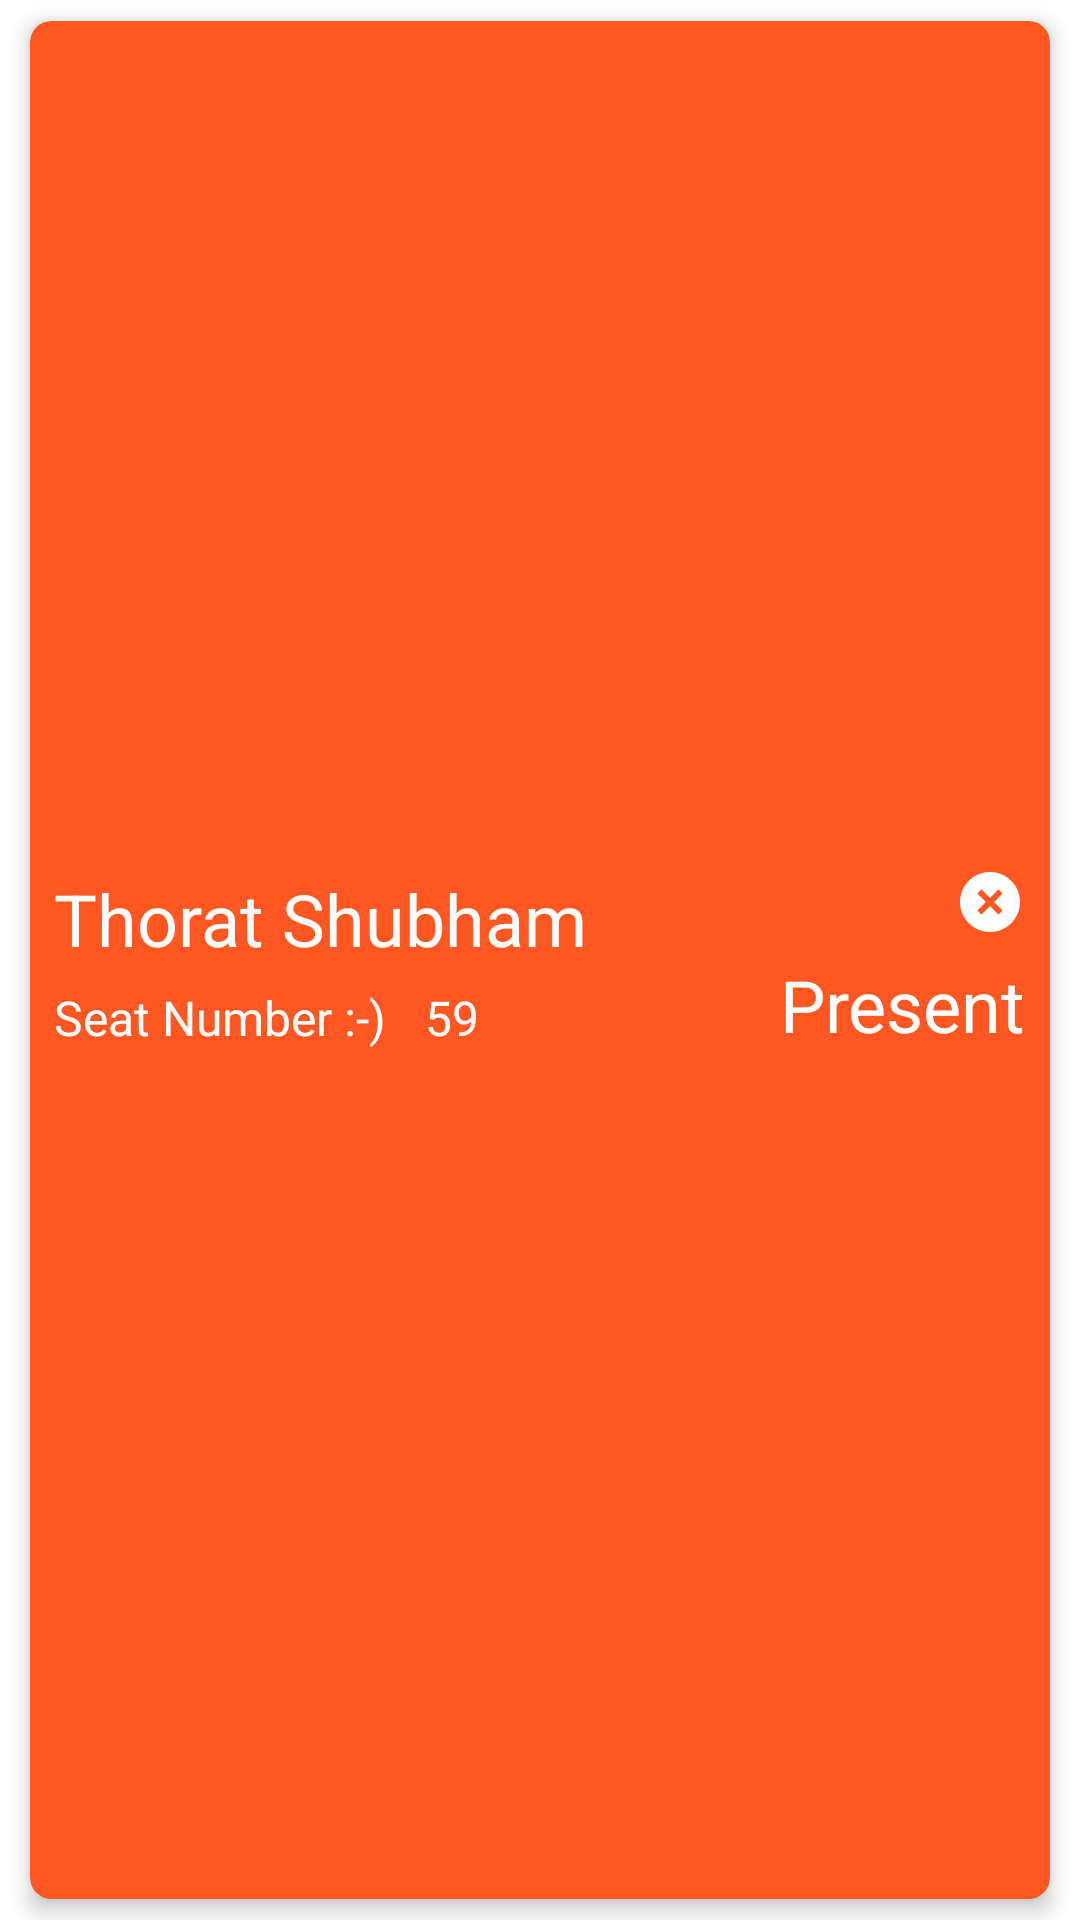

Icons on this 1080×1920 Android screen, each with its box as BBox(x1, y1, x2, y2):
uncheck: BBox(960, 872, 1020, 932)
